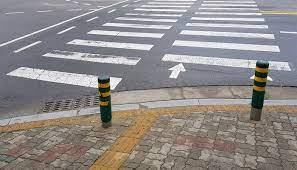guide_blocks: (90, 119, 153, 170), (111, 104, 297, 119), (1, 118, 95, 133)
